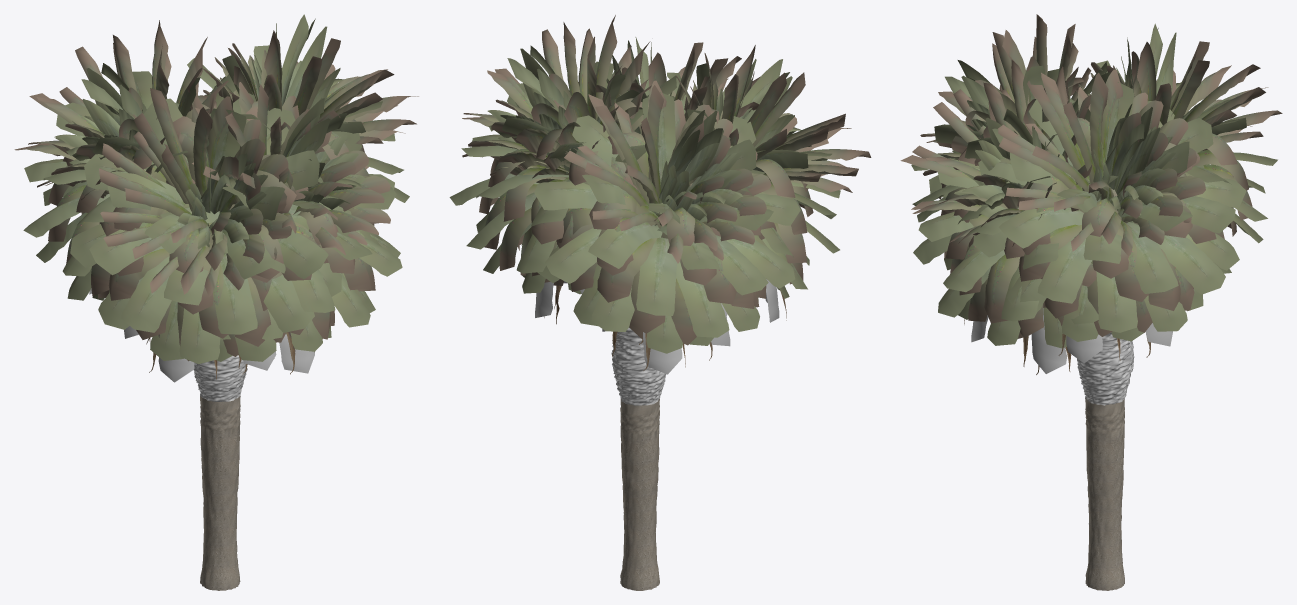
Rendered from FBX_AF08_DracaenaDraco_1.fbx.
The picture shows the model from 3 angles, left to right: view 1: azimuth 30°, elevation 25°; view 2: azimuth 150°, elevation 25°; view 3: azimuth 270°, elevation 25°; orthographic projection. The views are drawn at different scales.
Visible parts, largest first — view 1: Leaf01_1, Leaf02_1, Bark01_1, Bark02_1, Leaf05_1; view 2: Leaf02_1, Leaf01_1, Bark01_1, Bark02_1, Leaf05_1; view 3: Leaf01_1, Leaf02_1, Bark01_1, Bark02_1, Leaf05_1.
Boxes of the visible parts, <box> form: Leaf01_1: <box>23,14,409,364</box>; Leaf02_1: <box>14,20,418,361</box>; Bark01_1: <box>200,396,240,590</box>; Bark02_1: <box>194,355,247,401</box>; Leaf05_1: <box>89,288,314,382</box>; Leaf02_1: <box>462,15,871,345</box>; Leaf01_1: <box>449,37,840,353</box>; Bark01_1: <box>620,398,659,590</box>; Bark02_1: <box>611,327,666,405</box>; Leaf05_1: <box>535,279,779,374</box>; Leaf01_1: <box>911,23,1277,348</box>; Leaf02_1: <box>900,14,1282,338</box>; Bark01_1: <box>1085,398,1124,590</box>; Bark02_1: <box>1077,332,1134,405</box>; Leaf05_1: <box>971,308,1172,373</box>.
Bounding box in the file's own units: 216 × 320 × 208.
